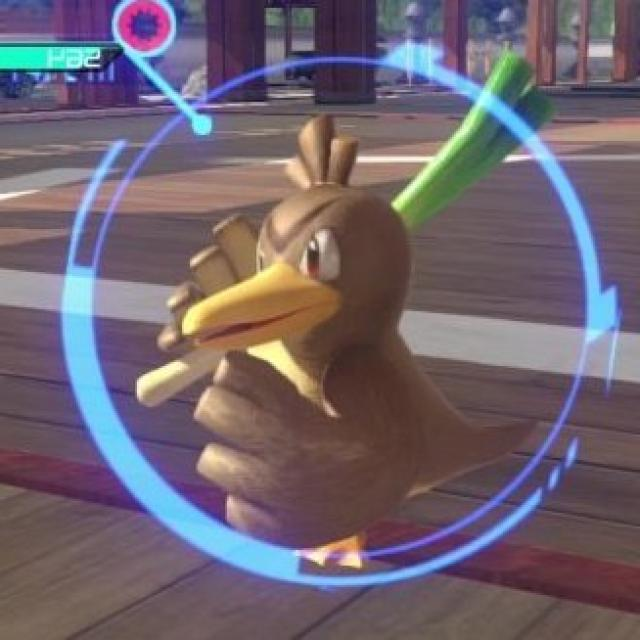Farfetchd: (166, 119, 518, 558)
